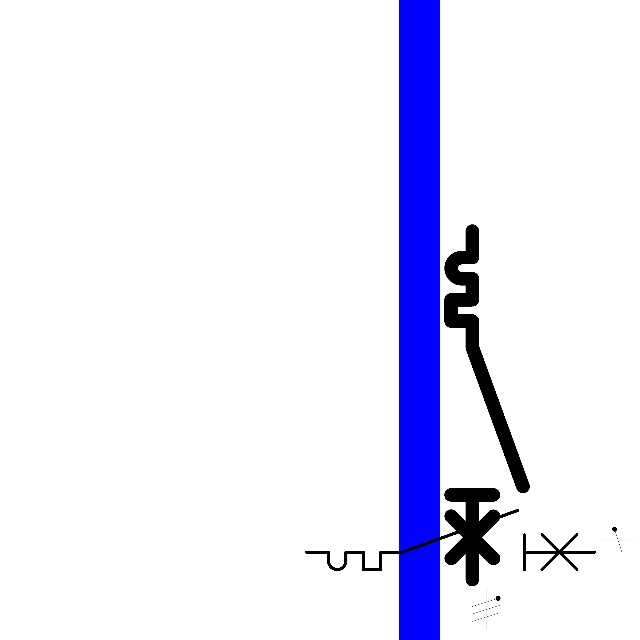interruptor_termomagnetico: (442, 222, 531, 588), (299, 503, 601, 577)
